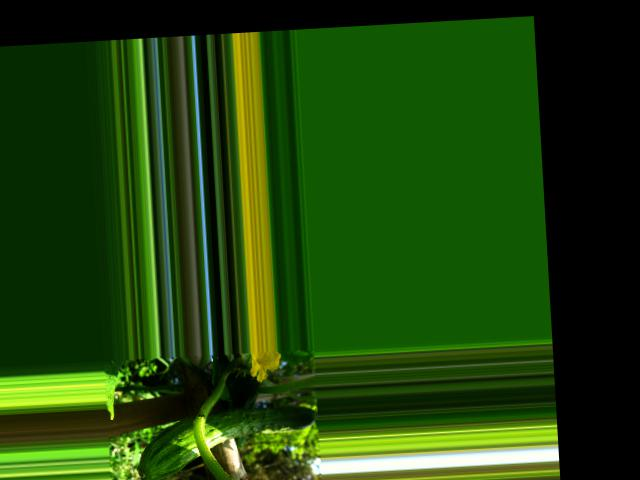cucumber: (135, 403, 321, 480)
